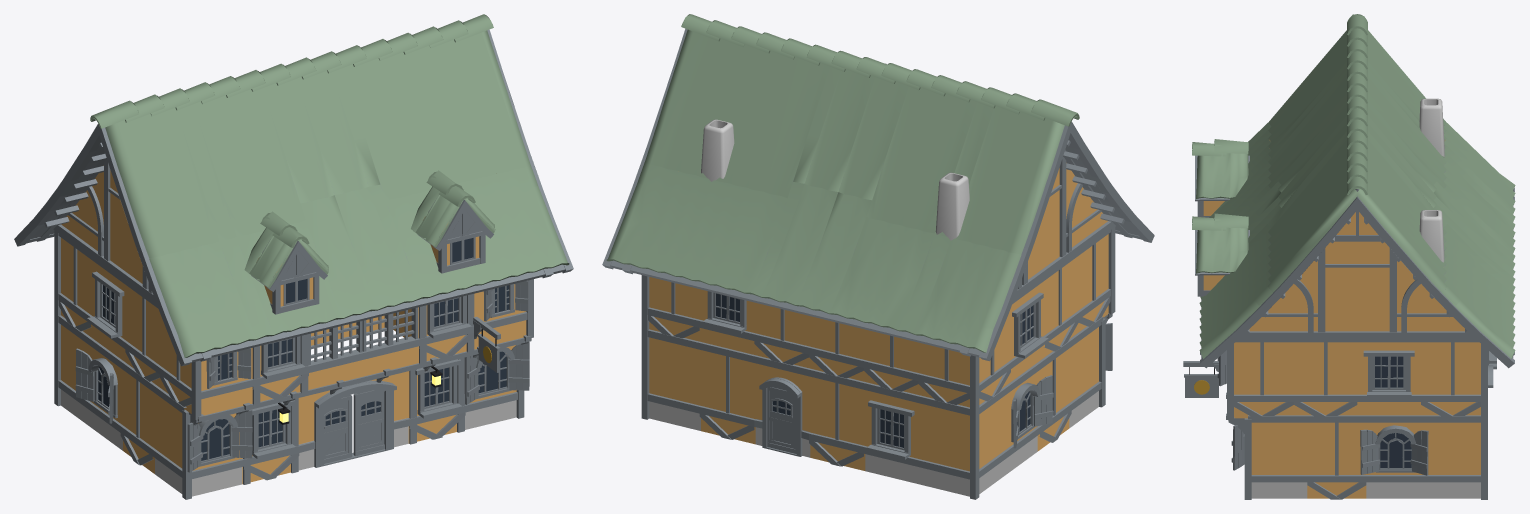
Rendered from tavern.gltf.
The picture shows the model from 3 angles, left to right: view 1: azimuth 30°, elevation 25°; view 2: azimuth 150°, elevation 25°; view 3: azimuth 270°, elevation 25°; orthographic projection. The views are drawn at different scales.
Parts seen in each view (by area): view 1: Roof_RoundTiles_8x10.088, Roof_Front_Brick8.089, Roof_Dormer_RoundTile.091, Roof_Dormer_RoundTile.092, Wall_Plaster_Straight.028, Wall_Plaster_WoodGrid+upper.061, Wall_Plaster_Straight+upper.077, Wall_Plaster_WoodGrid+upper.060, Wall_Plaster_Straight+upper.074, Wall_Plaster_Straight_Base.029, Wall_Plaster_Door_Round.006, DoorFrame_Round_WoodDark.007 (+32 smaller); view 2: Roof_RoundTiles_8x10.088, Roof_Front_Brick8.089, Wall_Plaster_Straight.020, Wall_Plaster_Straight.016, Wall_Plaster_Straight_Base.015, Wall_Plaster_Straight_Base.023, Wall_Plaster_Straight+upper.070, Wall_Plaster_Straight+upper.071, Wall_Plaster_Straight+upper.072, Wall_Plaster_Window_Wide_Flat.021, Wall_Plaster_Straight+upper.077, Wall_Plaster_Straight+upper.067 (+22 smaller); view 3: Roof_RoundTiles_8x10.088, Roof_Front_Brick8.090, Wall_Plaster_Straight+upper.080, Wall_Plaster_Straight_Base.030, Wall_Plaster_Straight.031, Wall_Plaster_Straight+upper.079, Wall_Plaster_Straight+upper.083, Wall_Plaster_Straight_Base.035, Roof_Dormer_RoundTile.092, Roof_Dormer_RoundTile.091, Wall_Plaster_Window_Wide_Flat+upper.081, Wall_Plaster_Window_Wide_Round.032 (+11 smaller).
Boxes of the visible parts, x1,y1,x2,y2 form: Roof_RoundTiles_8x10.088: (14,14,573,366); Roof_Front_Brick8.089: (44,142,156,304); Roof_Dormer_RoundTile.091: (244,211,328,314); Roof_Dormer_RoundTile.092: (411,170,495,273); Wall_Plaster_Straight.028: (120,360,154,473); Wall_Plaster_WoodGrid+upper.061: (362,307,419,376); Wall_Plaster_Straight+upper.077: (125,282,162,388); Wall_Plaster_WoodGrid+upper.060: (308,321,364,389); Wall_Plaster_Straight+upper.074: (58,233,93,338); Wall_Plaster_Straight_Base.029: (152,384,186,493); Wall_Plaster_Door_Round.006: (298,371,410,470); DoorFrame_Round_WoodDark.007: (314,380,396,467); Roof_RoundTiles_8x10.088: (602,14,1154,361); Roof_Front_Brick8.089: (1013,140,1124,300); Wall_Plaster_Straight.020: (809,368,865,470); Wall_Plaster_Straight.016: (699,342,755,444); Wall_Plaster_Straight_Base.015: (647,329,700,430); Wall_Plaster_Straight_Base.023: (918,395,969,496); Wall_Plaster_Straight+upper.070: (754,303,810,368); Wall_Plaster_Straight+upper.071: (809,316,865,381); Wall_Plaster_Straight+upper.072: (863,329,919,395); Wall_Plaster_Window_Wide_Flat.021: (863,382,919,484); Wall_Plaster_Straight+upper.077: (1042,253,1078,358); Wall_Plaster_Straight+upper.067: (647,277,700,341); Roof_RoundTiles_8x10.088: (1199,14,1515,368); Roof_Front_Brick8.090: (1239,210,1475,339); Wall_Plaster_Straight+upper.080: (1294,339,1357,416); Wall_Plaster_Straight_Base.030: (1248,415,1307,498); Wall_Plaster_Straight.031: (1307,415,1366,499); Wall_Plaster_Straight+upper.079: (1234,339,1293,418); Wall_Plaster_Straight+upper.083: (1421,339,1480,416); Wall_Plaster_Straight_Base.035: (1425,415,1480,498); Roof_Dormer_RoundTile.092: (1192,213,1249,296); Roof_Dormer_RoundTile.091: (1192,139,1249,217); Wall_Plaster_Window_Wide_Flat+upper.081: (1357,339,1420,415); Wall_Plaster_Window_Wide_Round.032: (1366,415,1425,498).
Size of the model in its own units: 14.23 by 12.14 by 11.24.
